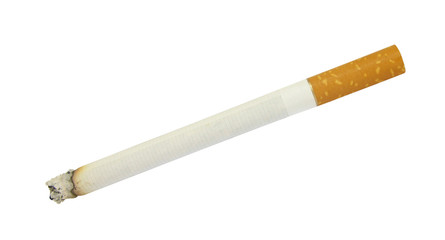cigarette: (39, 44, 412, 207)
